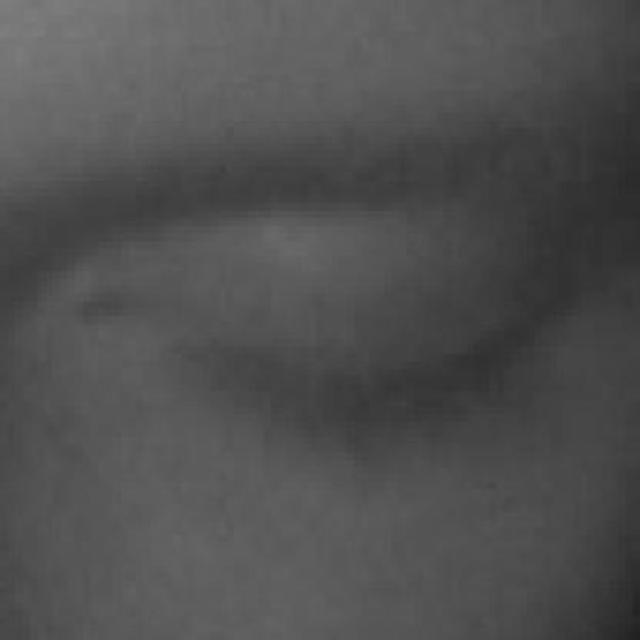drowsy: (211, 195, 598, 514)
